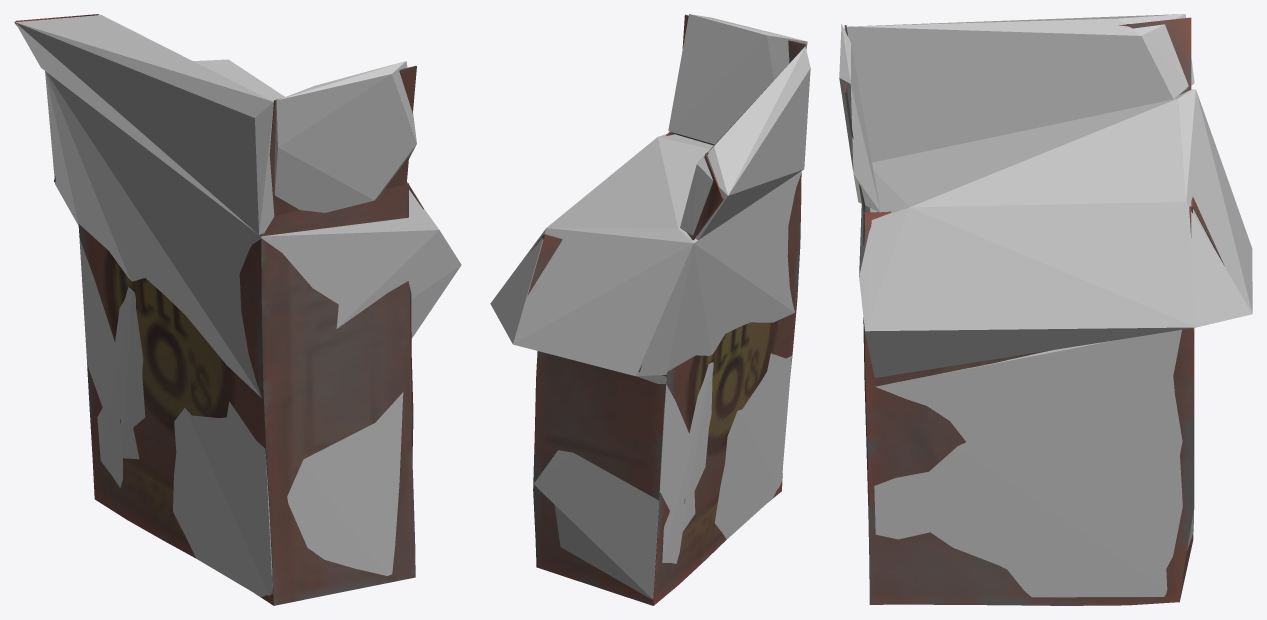
Rendered from SM_CerealBox_01.fbx.
3 views of the same model, side by side, from view 1: azimuth 30°, elevation 25°; view 2: azimuth 150°, elevation 25°; view 3: azimuth 270°, elevation 25° (orthographic). The views are drawn at different scales.
Parts seen in each view (by area): view 1: SM_CerealBox_01_ConvexHulls, SM_CerealBox_01; view 2: SM_CerealBox_01_ConvexHulls, SM_CerealBox_01; view 3: SM_CerealBox_01_ConvexHulls, SM_CerealBox_01.
Boxes of the visible parts, box(x1,y1,x2,y2) form: SM_CerealBox_01_ConvexHulls: box(15, 15, 461, 597); SM_CerealBox_01: box(14, 14, 423, 605); SM_CerealBox_01_ConvexHulls: box(490, 14, 810, 599); SM_CerealBox_01: box(527, 14, 805, 605); SM_CerealBox_01_ConvexHulls: box(839, 14, 1252, 597); SM_CerealBox_01: box(844, 17, 1224, 605).
Size of the model in its own units: 16.06 by 21.1 by 29.19.
2 materials, 1 textured.
